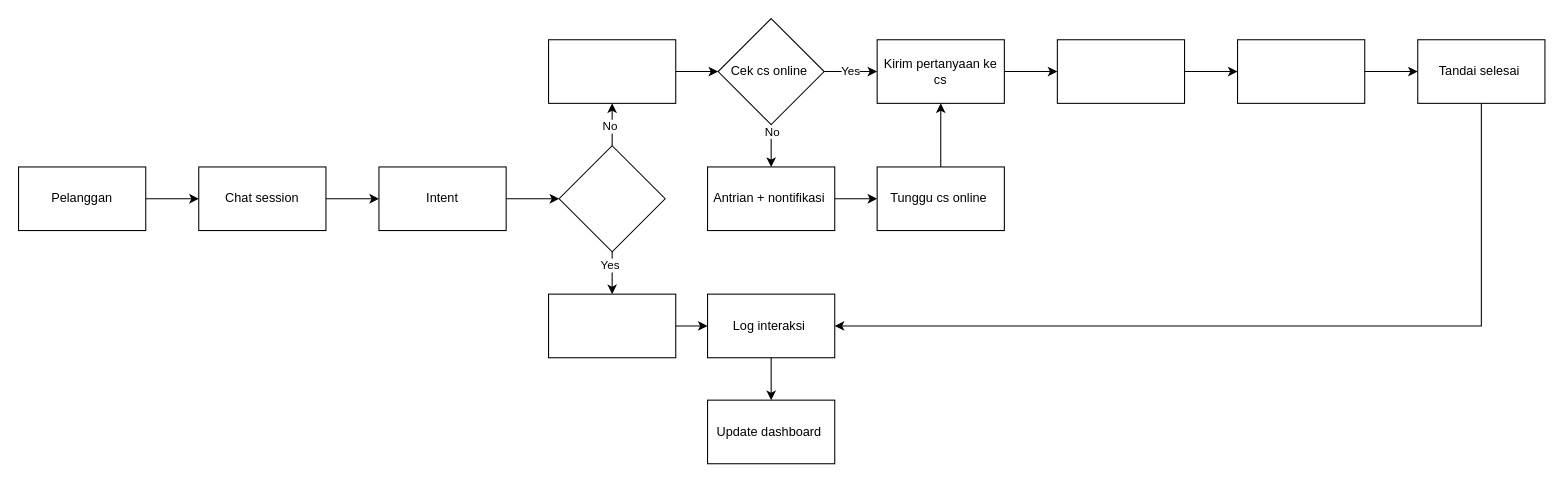
Some shapes in this 1563 by 482 pixel diagram are drawn without their labels. The centre of each missing label's shape, as x and y in pixels:
"AI Jawab" belongs at point (611, 325).
"Confidence >= 0,7?" belongs at point (611, 198).
"Cs ambil alih" belongs at point (1120, 71).
"Cs jawab manual pertanyaan" belongs at point (1300, 71).
"Eskalasi" belongs at point (611, 71).
